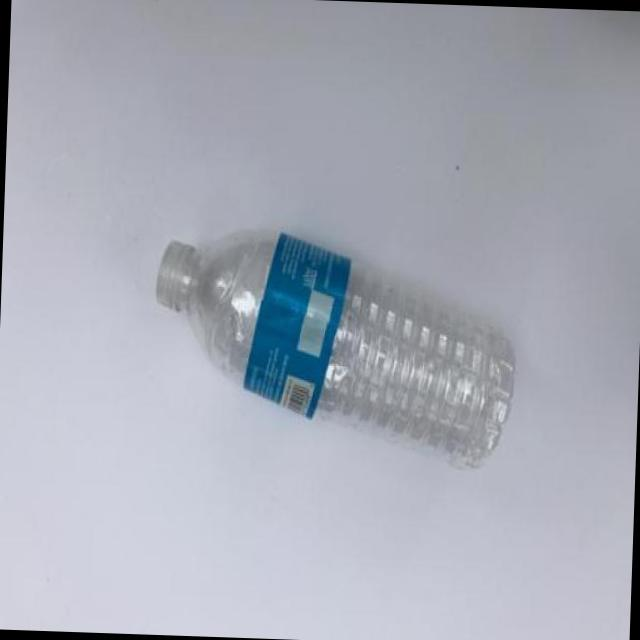plastic_bottle: (148, 223, 521, 473)
